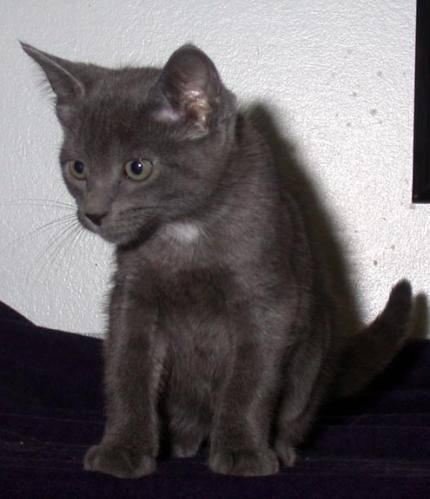cat: (22, 43, 425, 477)
